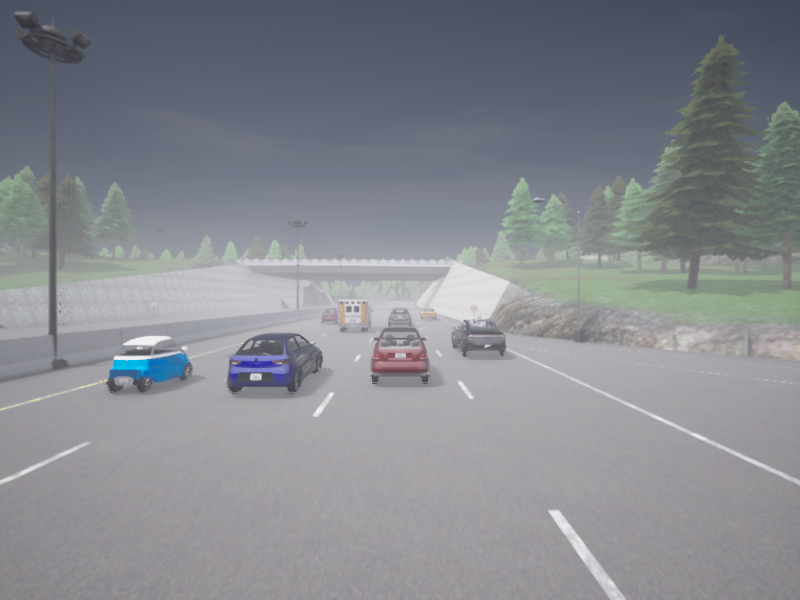vehicle: (227, 332, 321, 392), (107, 336, 191, 392), (371, 327, 429, 382), (451, 320, 505, 355), (337, 300, 374, 330), (388, 308, 411, 325), (321, 308, 337, 323), (420, 307, 436, 319)
